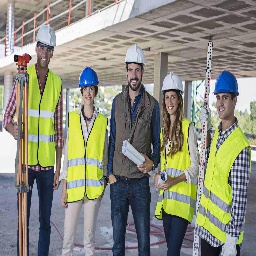helmet: (32, 21, 59, 53), (213, 72, 242, 99), (121, 43, 149, 70), (76, 65, 102, 92), (160, 71, 187, 97)
no-vest: (113, 90, 159, 188)
person: (17, 22, 60, 256), (111, 42, 150, 256), (210, 68, 249, 256), (158, 68, 196, 256), (68, 62, 103, 256)
vest: (207, 124, 254, 247), (18, 68, 61, 167), (161, 118, 200, 223), (65, 108, 107, 203)
